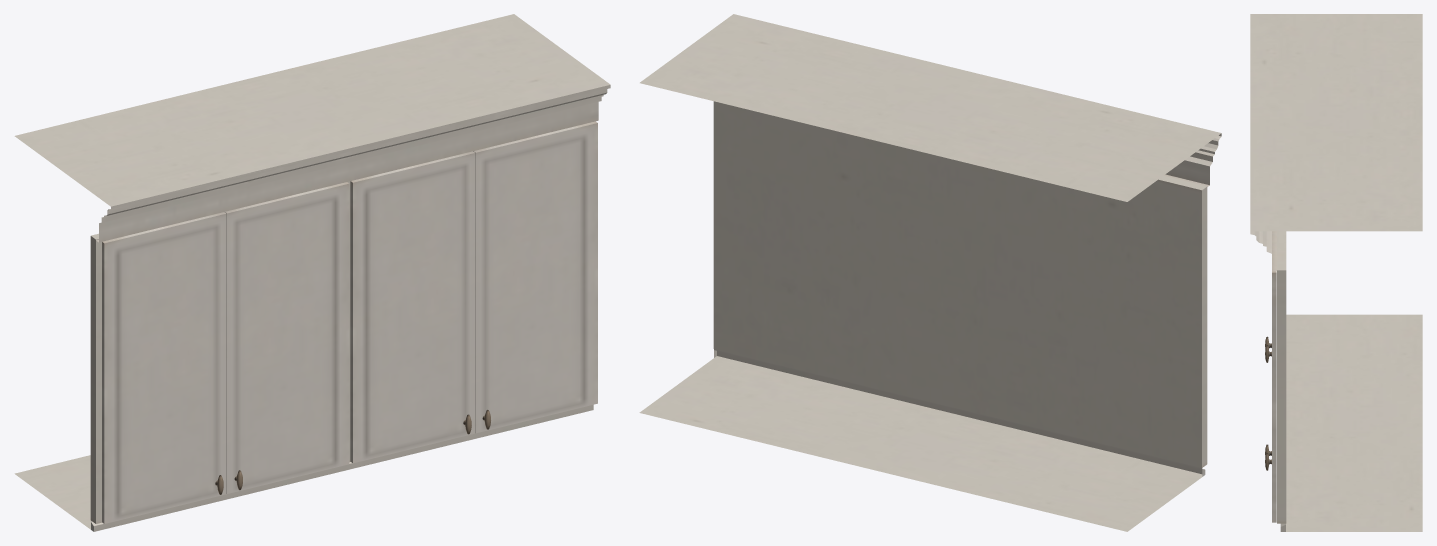
Rendered from KitCabinet_Up_1½x_A.FBX.
3 views of the same model, side by side, from view 1: azimuth 30°, elevation 25°; view 2: azimuth 150°, elevation 25°; view 3: azimuth 270°, elevation 25° (orthographic). The views are drawn at different scales.
Visible parts, largest first — view 1: KitCabinet_Up_1½x_A; view 2: KitCabinet_Up_1½x_A; view 3: KitCabinet_Up_1½x_A.
Part boxes in pixels (x1,y1,x2,y2): KitCabinet_Up_1½x_A: (14, 14, 610, 531); KitCabinet_Up_1½x_A: (639, 14, 1221, 531); KitCabinet_Up_1½x_A: (1250, 14, 1422, 531).
Bounding box in the file's own units: 150 × 96.83 × 50.21.
